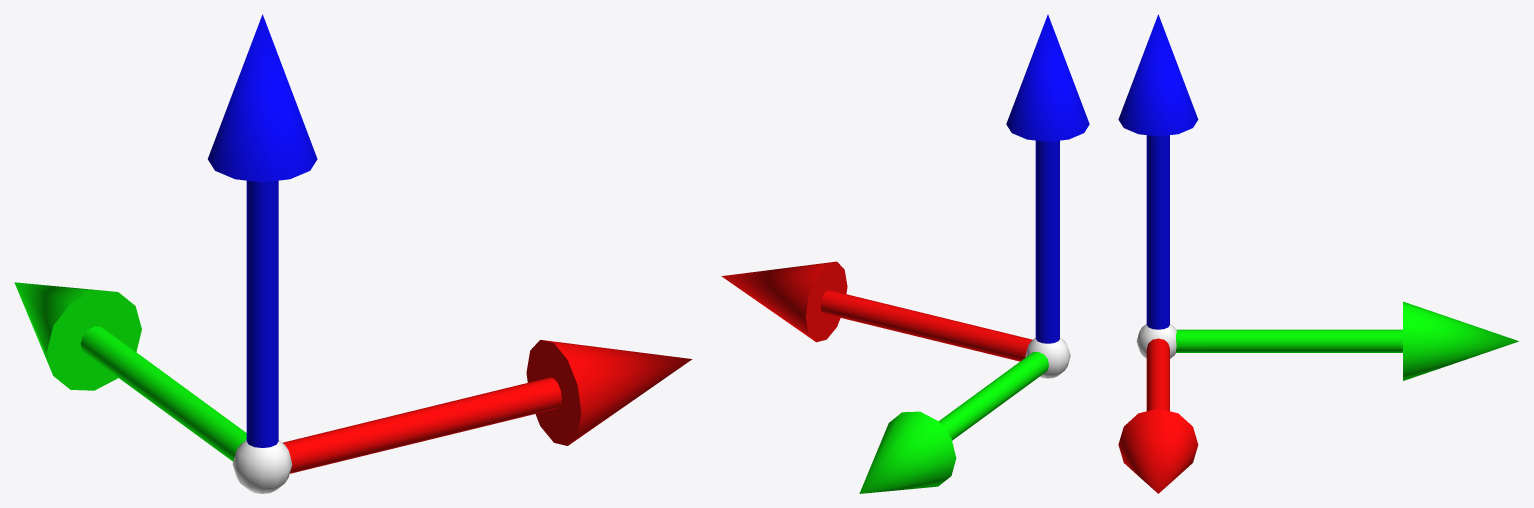
File: gizmo.glb
3 views of the same model, side by side, from view 1: azimuth 30°, elevation 25°; view 2: azimuth 150°, elevation 25°; view 3: azimuth 270°, elevation 25° (orthographic). The views are drawn at different scales.
Visible parts, largest first — view 1: Sphere; view 2: Sphere; view 3: Sphere.
Boxes of the visible parts, box(x1,y1,x2,y2) form: Sphere: box(14, 14, 692, 493); Sphere: box(721, 14, 1089, 493); Sphere: box(1118, 14, 1518, 493).
Size of the model in its own units: 1.11 by 1.11 by 1.11.
